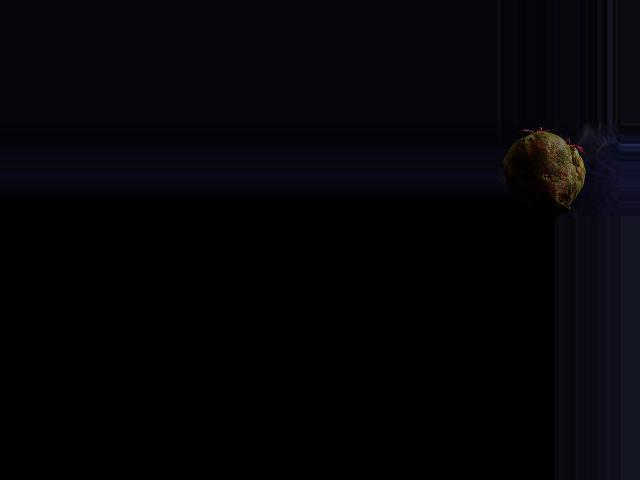beet: (503, 127, 585, 215)
